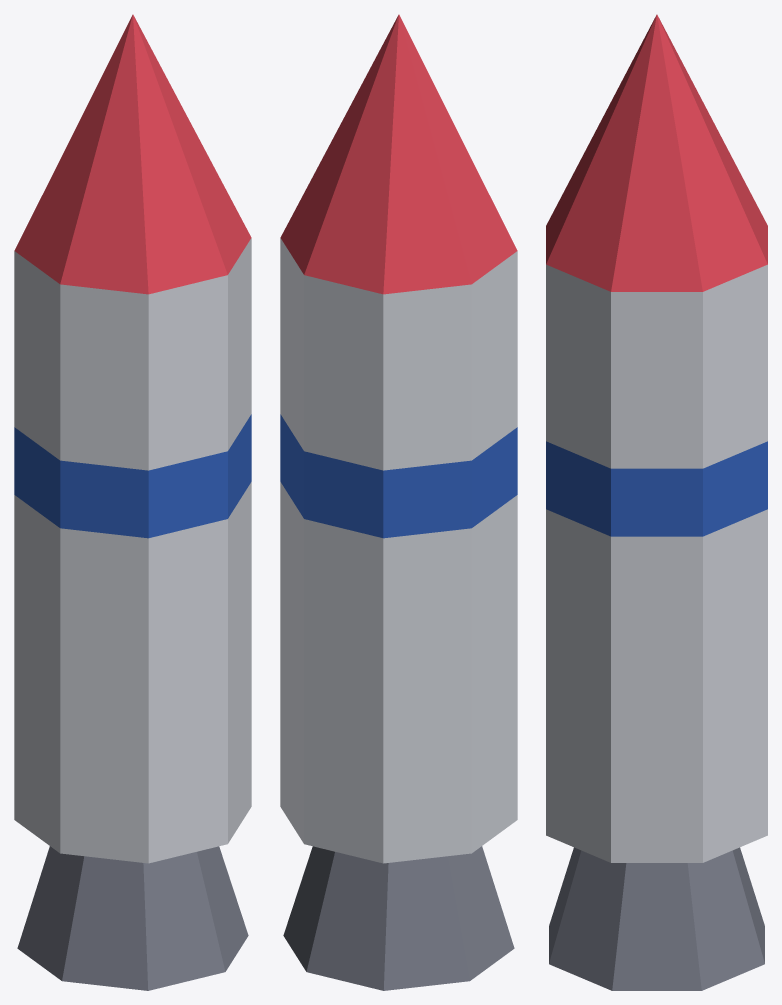
File: lander.obj
The picture shows the model from 3 angles, left to right: view 1: azimuth 30°, elevation 25°; view 2: azimuth 150°, elevation 25°; view 3: azimuth 270°, elevation 25°; orthographic projection.
Parts seen in each view (by area): view 1: lander; view 2: lander; view 3: lander.
Boxes of the visible parts, <box> form: lander: <box>14,14,251,990</box>; lander: <box>280,14,517,990</box>; lander: <box>546,14,767,990</box>.
Bounding box in the file's own units: 1.48 × 6.85 × 1.48.
